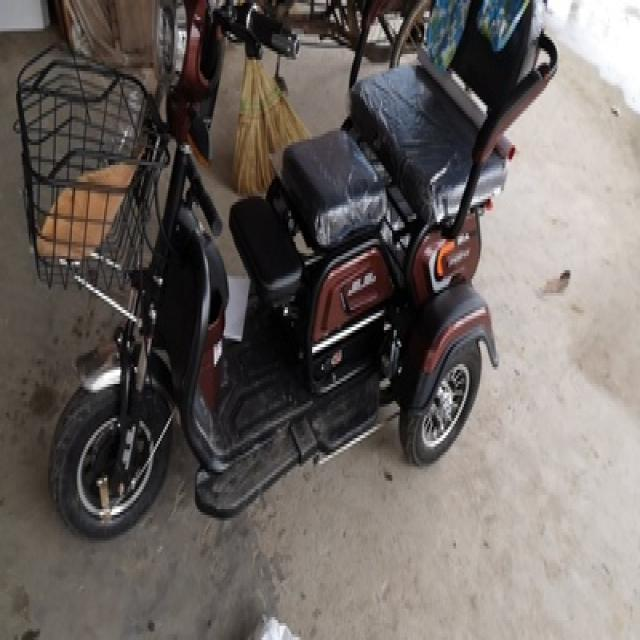tricycle: (13, 0, 555, 538)
